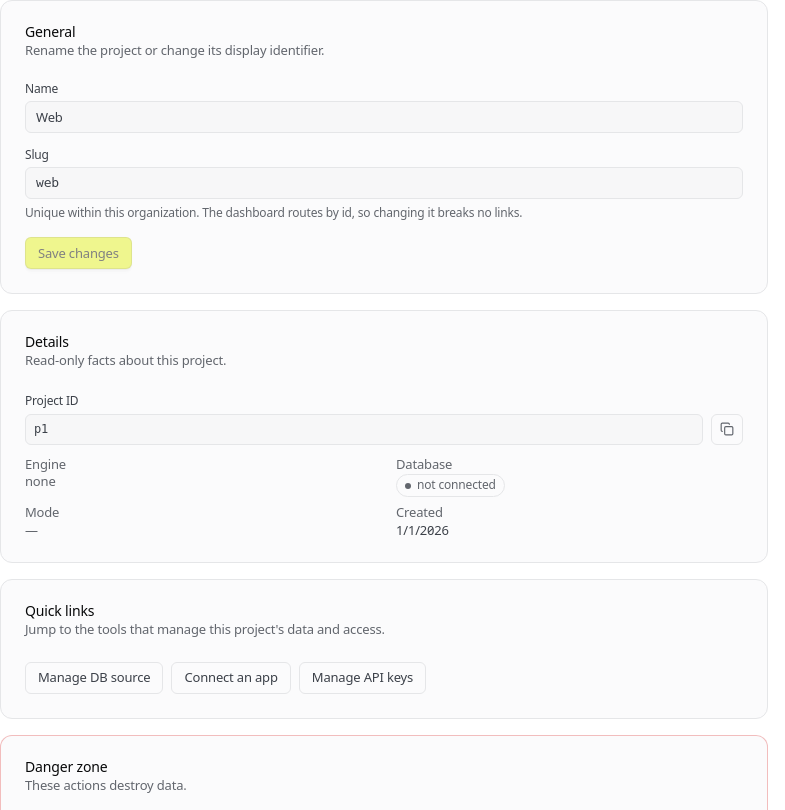
Test: ProjectSettingsPanel › puts a slug conflict on the slug field
Replace the text in the field labelled "Slug" with "taken". click: (384, 183)
box: [25,167,743,199]
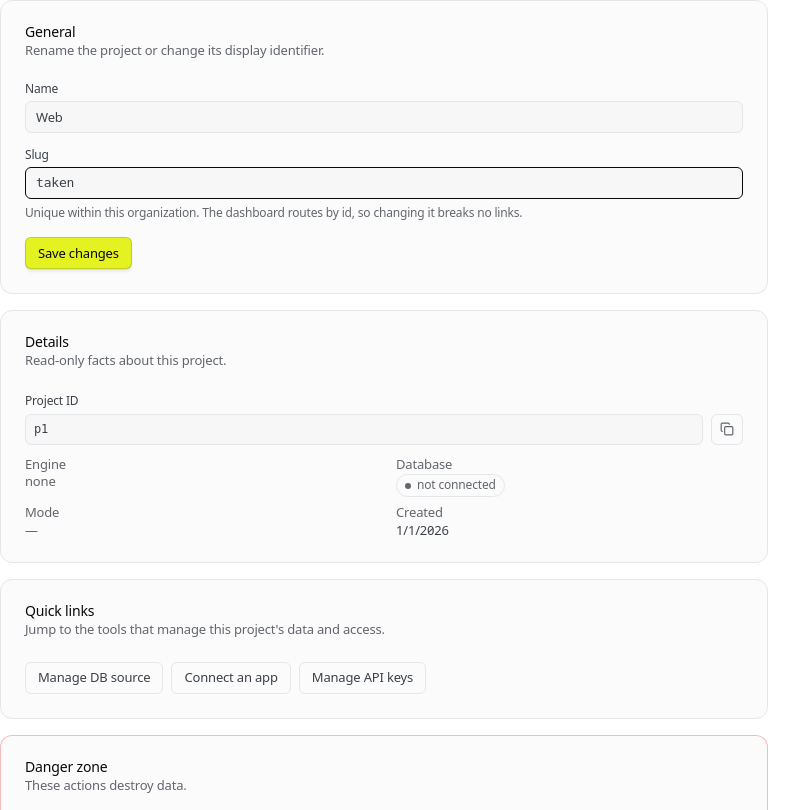
Click the button "Save changes". click: (78, 253)
box: [25,237,132,269]
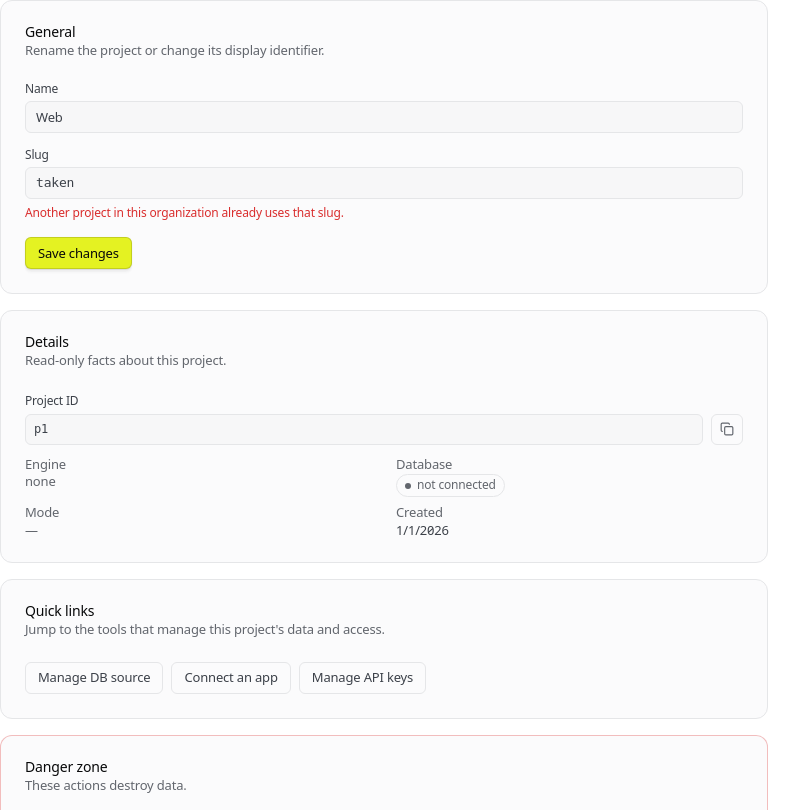
Now the message shows "already uses that slug", box [25,204,344,221]
